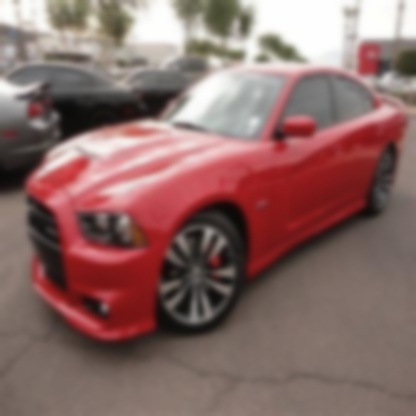Vehicle: (26, 64, 412, 343)
